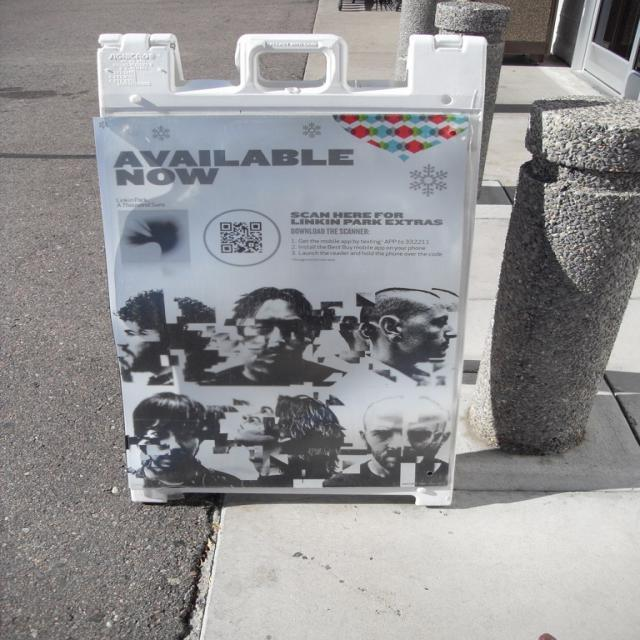qrcode: (221, 224, 263, 254)
